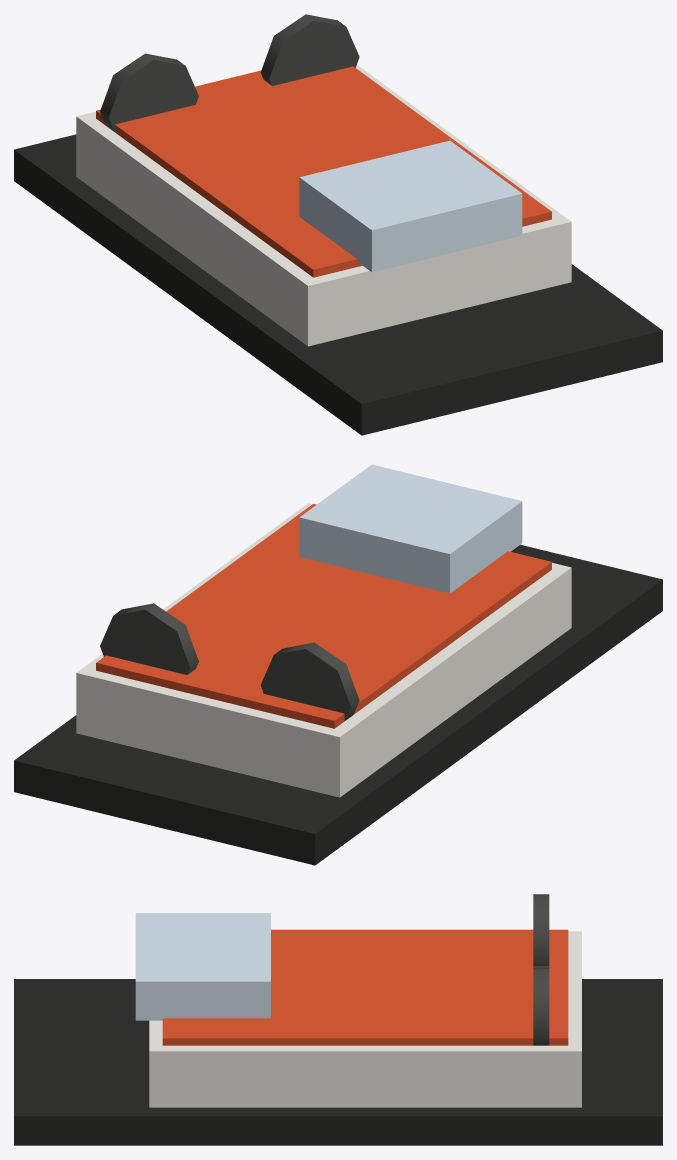
File: ship-hovercraft.glb
3 views of the same model, one above another, from view 1: azimuth 30°, elevation 25°; view 2: azimuth 150°, elevation 25°; view 3: azimuth 270°, elevation 25° (orthographic). The views are drawn at different scales.
Parts seen in each view (by area): view 1: hovercraft; view 2: hovercraft; view 3: hovercraft.
Boxes of the visible parts, left/top/right/bottom form: hovercraft: left=14, top=14, right=662, bottom=435; hovercraft: left=14, top=464, right=662, bottom=865; hovercraft: left=14, top=894, right=662, bottom=1145.
Bounding box in the file's own units: 12 × 5.9 × 24.
